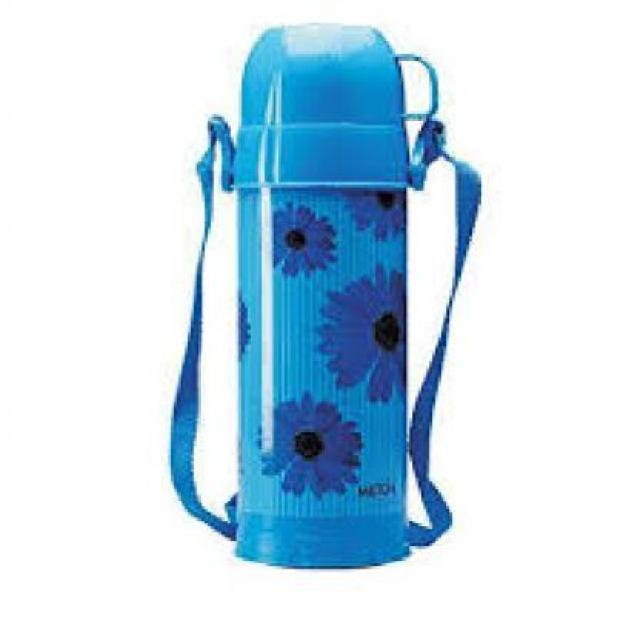Drinking: (233, 14, 424, 592)
